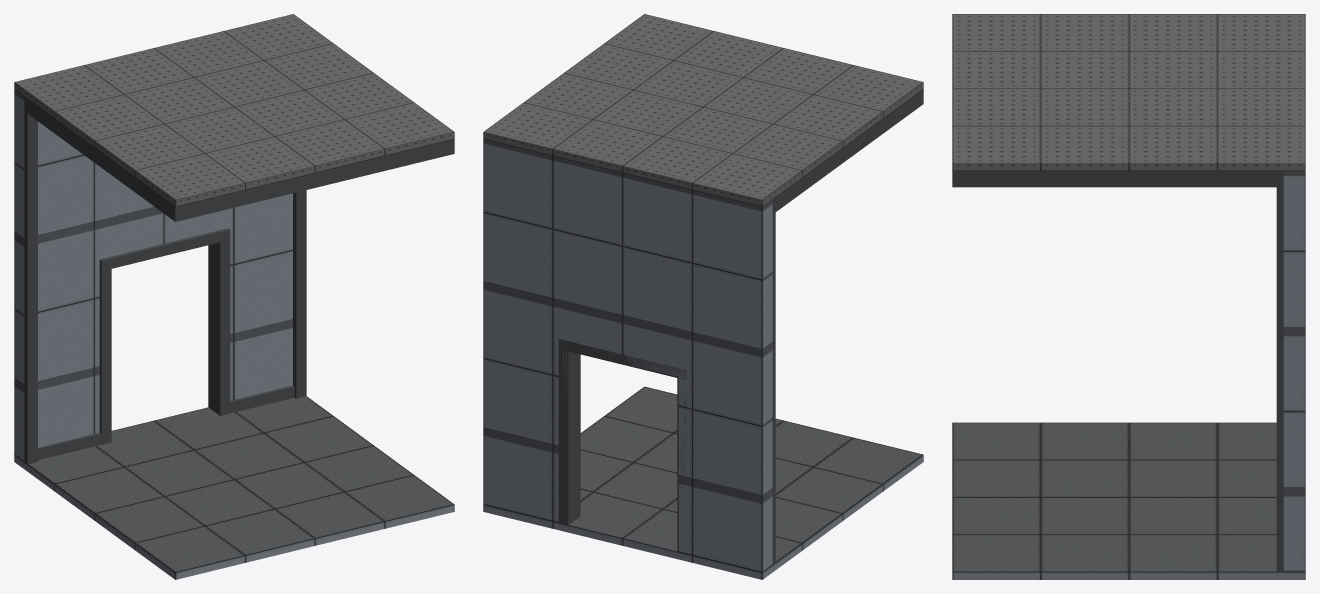
Rendered from Room_SciFi_Door_NoLight.glb.
3 renders of one model, left to right at view 1: azimuth 30°, elevation 25°; view 2: azimuth 150°, elevation 25°; view 3: azimuth 270°, elevation 25°, orthographic. The views are drawn at different scales.
Visible parts, largest first — view 1: Room_SciFi_Door_NoLight, Room_SciFi_Door_NoLight_Ceiling; view 2: Room_SciFi_Door_NoLight, Room_SciFi_Door_NoLight_Ceiling; view 3: Room_SciFi_Door_NoLight, Room_SciFi_Door_NoLight_Ceiling.
Boxes of the visible parts, x1=… form: Room_SciFi_Door_NoLight: x1=14, y1=90, x2=454, y2=579; Room_SciFi_Door_NoLight_Ceiling: x1=14, y1=14, x2=454, y2=221; Room_SciFi_Door_NoLight: x1=483, y1=139, x2=923, y2=579; Room_SciFi_Door_NoLight_Ceiling: x1=483, y1=14, x2=923, y2=211; Room_SciFi_Door_NoLight: x1=952, y1=171, x2=1305, y2=579; Room_SciFi_Door_NoLight_Ceiling: x1=952, y1=14, x2=1305, y2=187.
Bounding box in the file's own units: 4 × 5.2 × 4.
5 materials, 3 textured.
